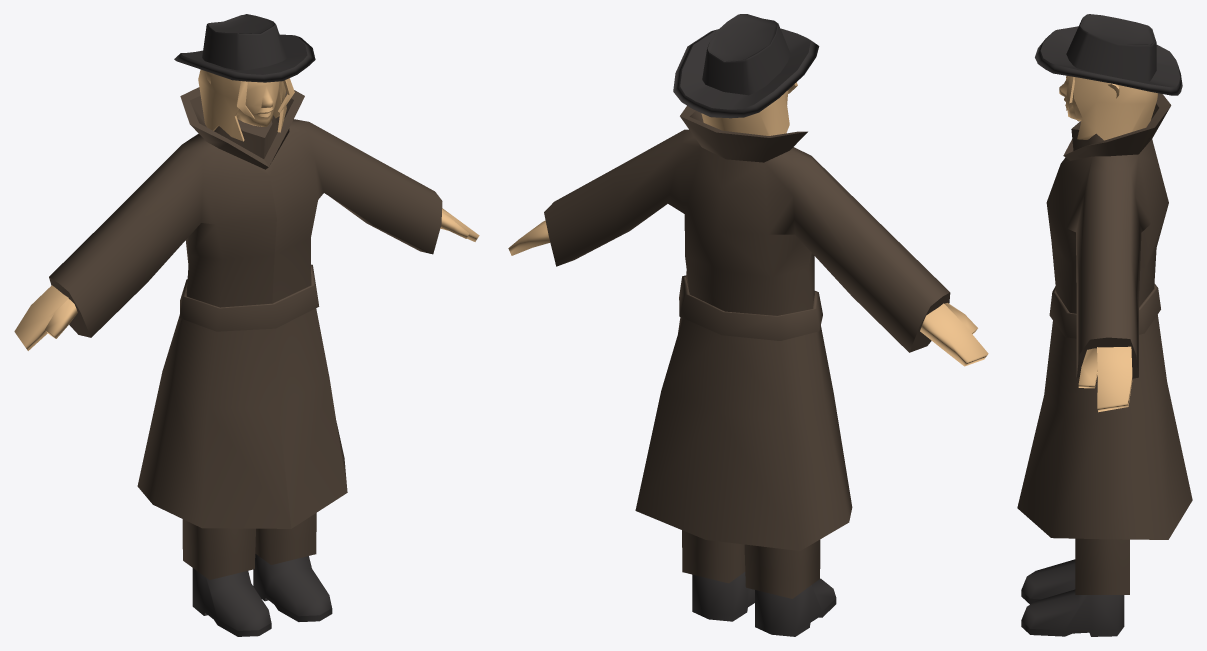
The model's file is Player_Model_Export3.fbx.
3 views of the same model, side by side, from view 1: azimuth 30°, elevation 25°; view 2: azimuth 150°, elevation 25°; view 3: azimuth 270°, elevation 25° (orthographic). The views are drawn at different scales.
Visible parts, largest first — view 1: Coat, Boots, Hat, Pants, Hair, Hands, Head; view 2: Coat, Hat, Pants, Boots, Hands, Hair; view 3: Coat, Hat, Boots, Hair, Pants, Hands, Head.
Boxes of the visible parts, box(x1,y1,x2,y2) form: Coat: box(49, 87, 442, 528); Boots: box(192, 554, 332, 636); Hat: box(174, 14, 315, 82); Pants: box(182, 513, 316, 579); Hair: box(198, 69, 294, 141); Hands: box(14, 208, 479, 350); Head: box(236, 81, 279, 126); Coat: box(544, 106, 950, 550); Hat: box(673, 14, 819, 118); Pants: box(682, 530, 820, 598); Boots: box(692, 572, 836, 636); Hands: box(508, 220, 988, 366); Hair: box(701, 82, 797, 135); Coat: box(1017, 93, 1192, 539); Hat: box(1035, 14, 1182, 95); Boots: box(1021, 559, 1124, 636); Hair: box(1066, 75, 1158, 140); Pants: box(1075, 538, 1129, 594); Hands: box(1078, 346, 1132, 412); Head: box(1059, 76, 1082, 121).
Size of the model in its own units: 1.31 by 1.59 by 0.4299.
